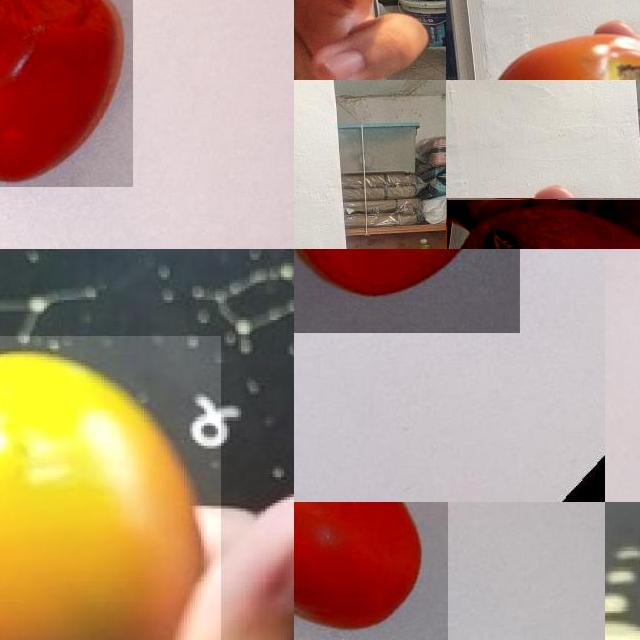0: (294, 502, 448, 640), (294, 249, 520, 333)
1: (0, 0, 133, 187)
Rotten Tomato: (0, 336, 221, 640), (446, 198, 640, 249)
